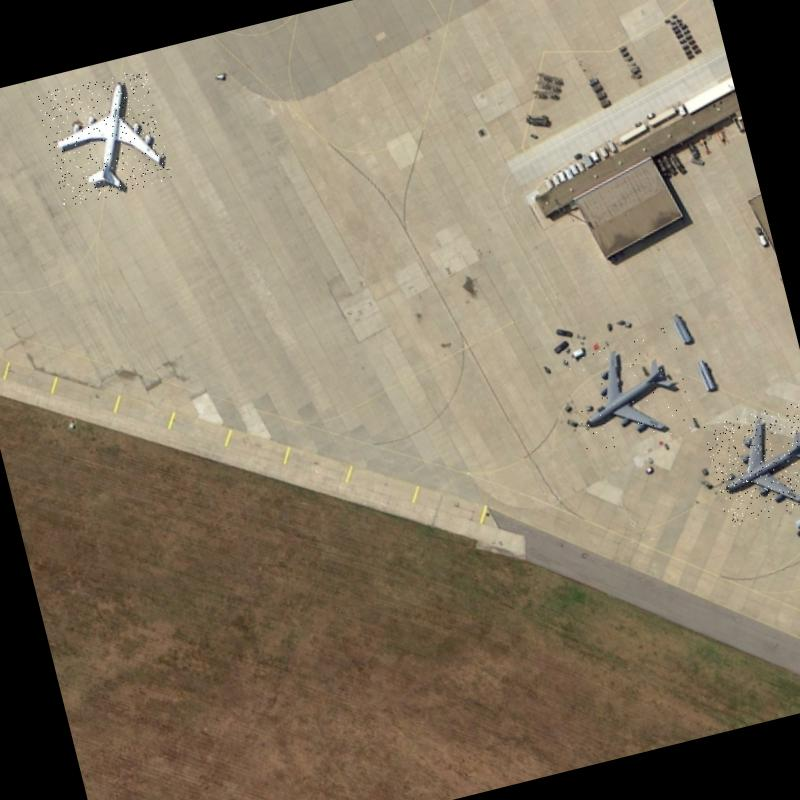A11: (35, 67, 173, 208)
A14: (562, 325, 696, 454), (702, 398, 800, 527)
